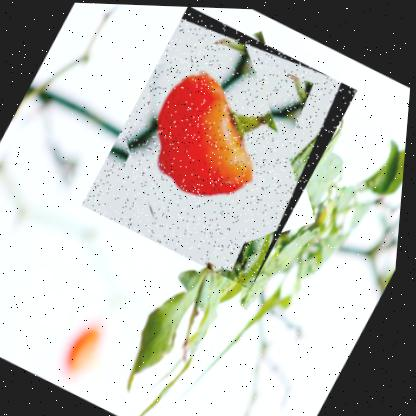capsicum: (77, 3, 363, 291)
